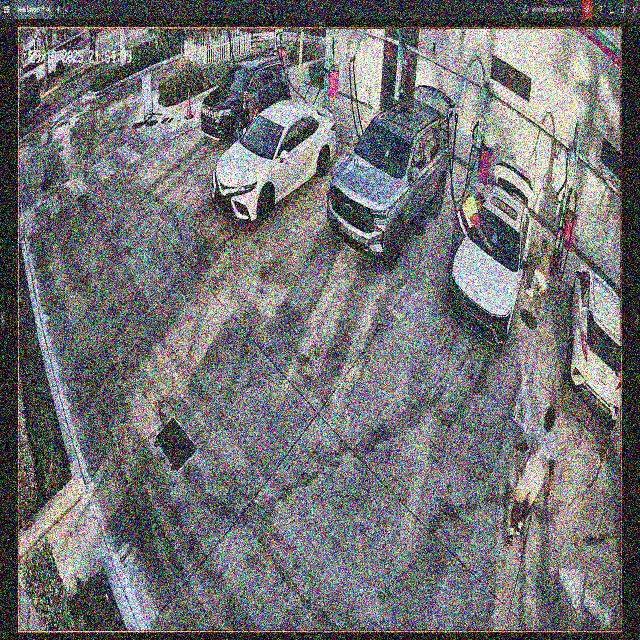Car: (329, 86, 452, 267), (209, 104, 334, 231), (452, 158, 533, 340)
